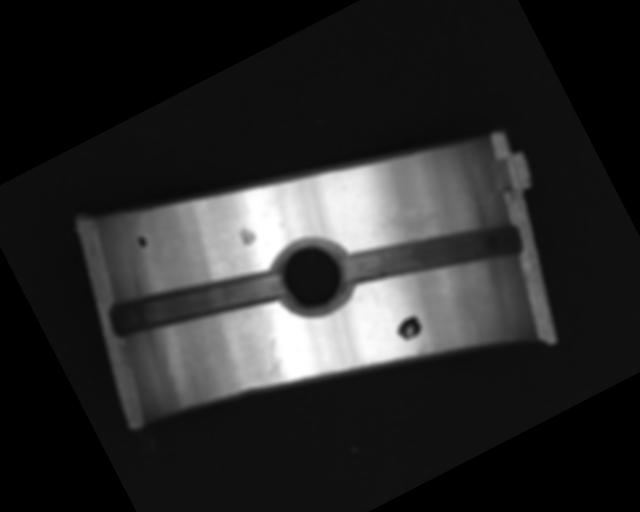blot: (392, 312, 426, 343), (135, 233, 150, 249)
bruise: (235, 222, 258, 248)
gap: (337, 181, 526, 326), (103, 232, 285, 367)
hole: (263, 224, 364, 326)
nick: (254, 336, 294, 385)
scratch: (380, 175, 470, 252)
